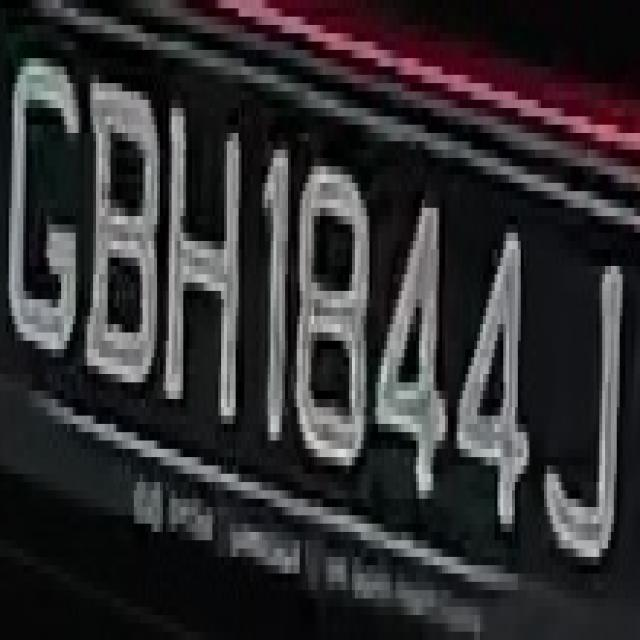1: (256, 100, 300, 465)
4: (364, 124, 448, 524), (448, 175, 535, 540)
8: (288, 150, 372, 473)
B: (79, 50, 160, 424)
G: (3, 25, 81, 366)
H: (172, 67, 244, 440)
J: (532, 208, 622, 573)
